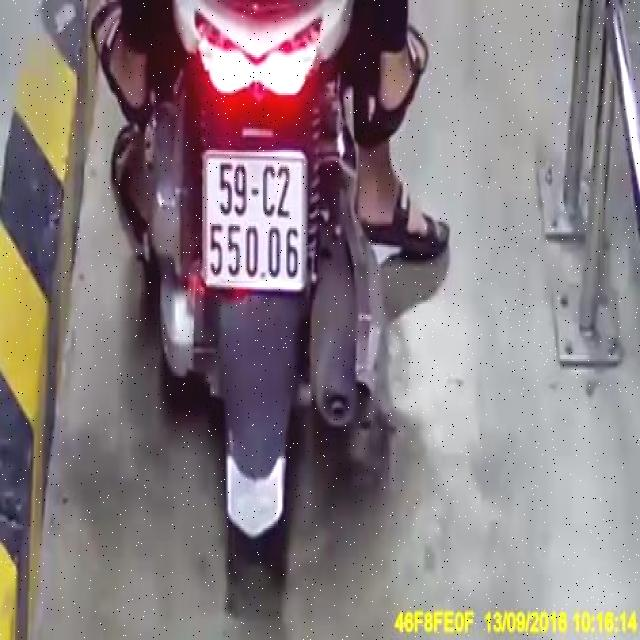0: (265, 223, 284, 277), (244, 220, 260, 279)
2: (275, 164, 293, 225)
5: (213, 156, 234, 215), (225, 223, 244, 277), (209, 219, 224, 281)
6: (283, 223, 303, 279)
9: (233, 161, 248, 219)
C: (261, 161, 278, 217)
